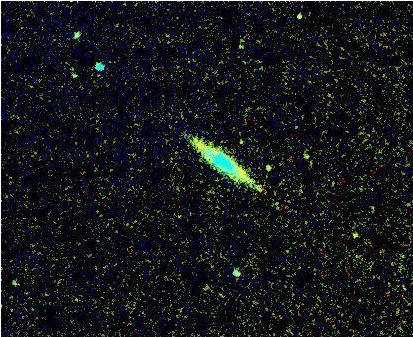star: (343, 220, 373, 250)
